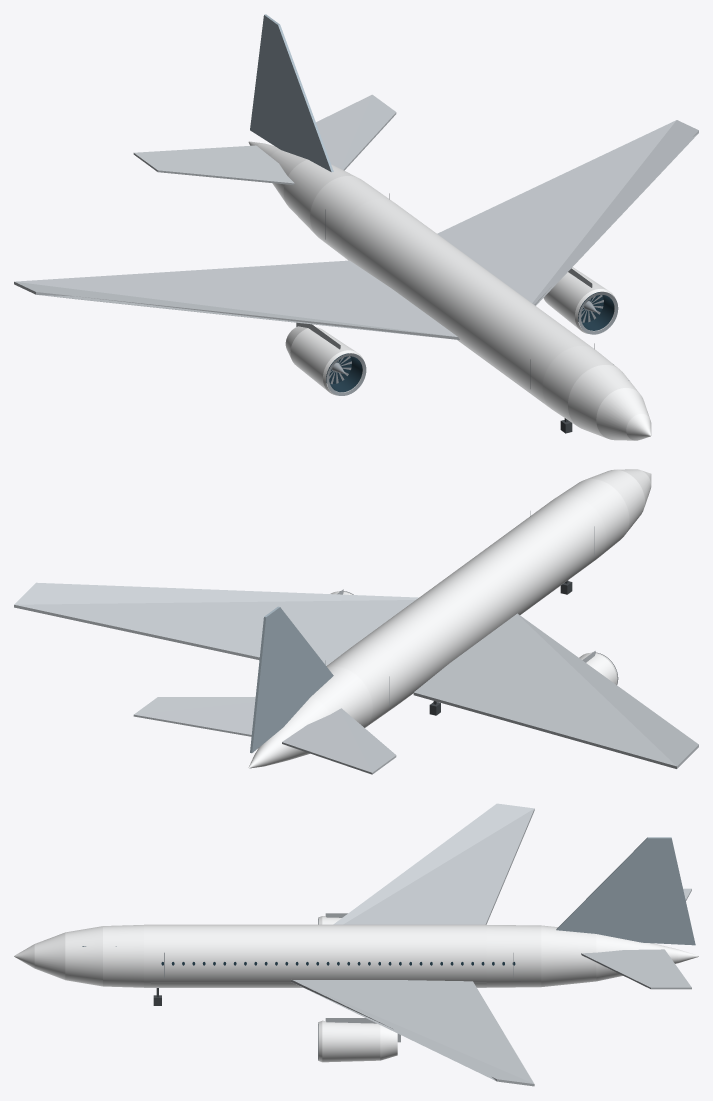
Rendered from b787-neutral-v3.gltf.
The picture shows the model from 3 angles, top to bottom: view 1: azimuth 30°, elevation 25°; view 2: azimuth 150°, elevation 25°; view 3: azimuth 270°, elevation 25°; orthographic projection. The views are drawn at different scales.
Visible parts, largest first — view 1: object 1; view 2: object 1; view 3: object 1.
Part boxes in pixels (bbox=[...]): object 1: bbox=[14, 14, 698, 440]; object 1: bbox=[14, 469, 698, 774]; object 1: bbox=[14, 803, 698, 1086].
Size of the model in its own units: 60 by 17.28 by 63.
